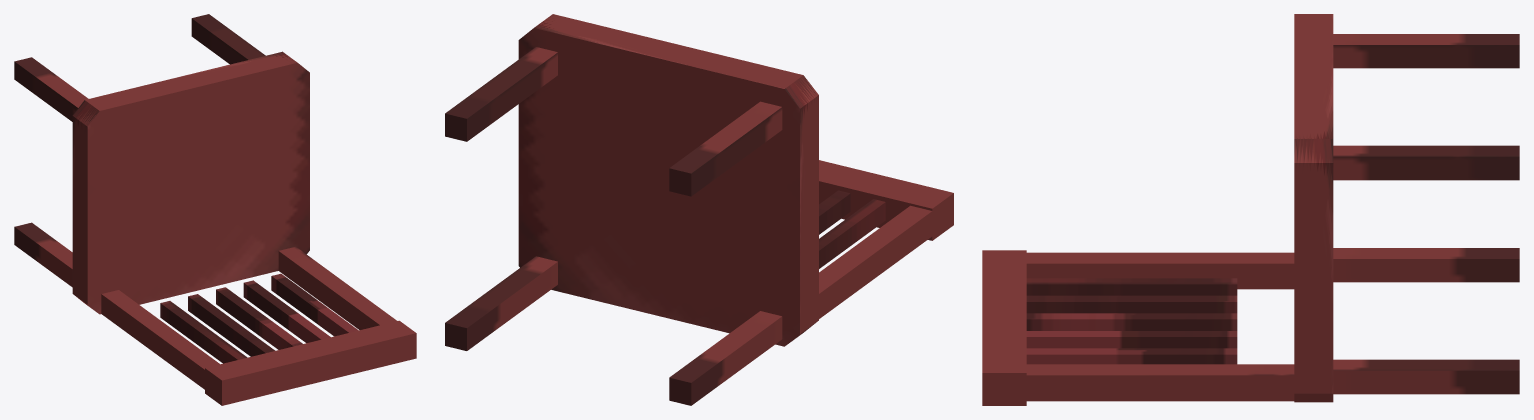
Rendered from pz_chair_seating_indoor_02_red_wooden.obj.
3 renders of one model, left to right at view 1: azimuth 30°, elevation 25°; view 2: azimuth 150°, elevation 25°; view 3: azimuth 270°, elevation 25°, orthographic. The views are drawn at different scales.
Parts seen in each view (by area): view 1: root; view 2: root; view 3: root.
Boxes of the visible parts, x1,y1,x2,y2 form: root: (14,14,416,405); root: (445,14,953,405); root: (982,14,1519,405).
Bounding box in the file's own units: 0.64 × 0.57 × 1.03.
Materials: 1 (1 with a texture image).
